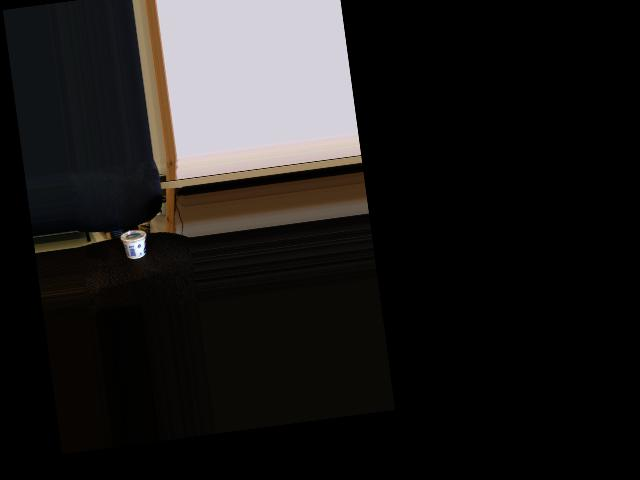cotage: (120, 227, 148, 263)
